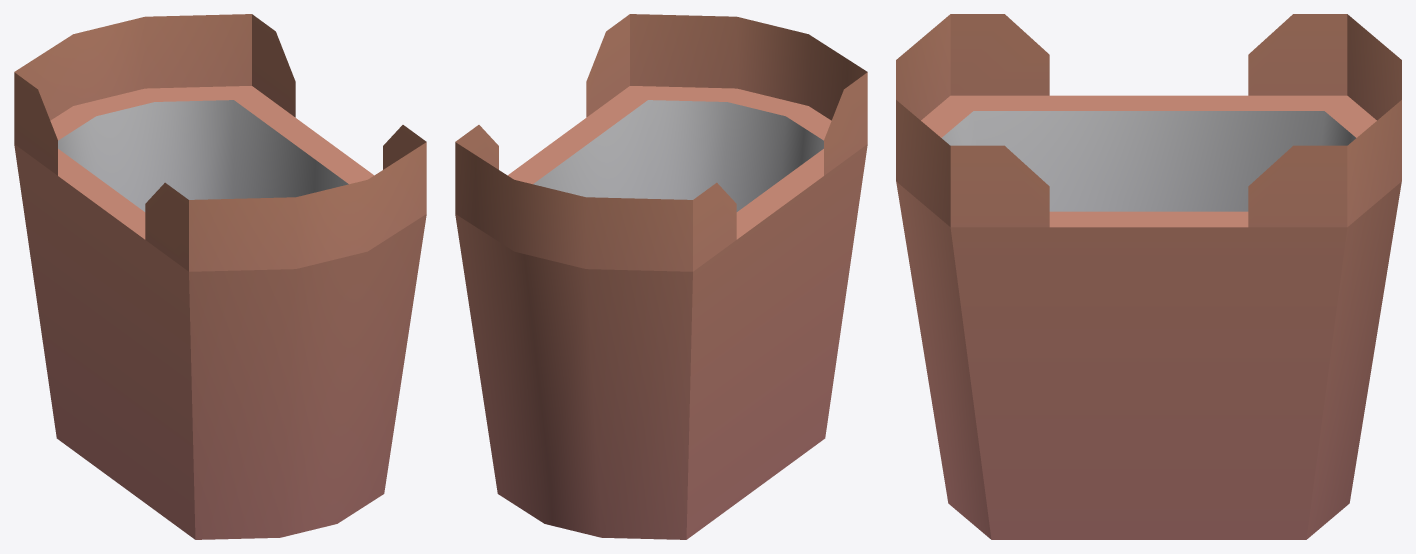
The model's file is fries-empty.glb.
The picture shows the model from 3 angles, left to right: view 1: azimuth 30°, elevation 25°; view 2: azimuth 150°, elevation 25°; view 3: azimuth 270°, elevation 25°; orthographic projection. The views are drawn at different scales.
Parts seen in each view (by area): view 1: fries-empty; view 2: fries-empty; view 3: fries-empty.
Part boxes in pixels (x1,y1,x2,y2): fries-empty: (14, 14, 426, 539); fries-empty: (455, 14, 867, 539); fries-empty: (896, 14, 1401, 539).
Bounding box in the file's own units: 0.1635 × 0.236 × 0.2653.
